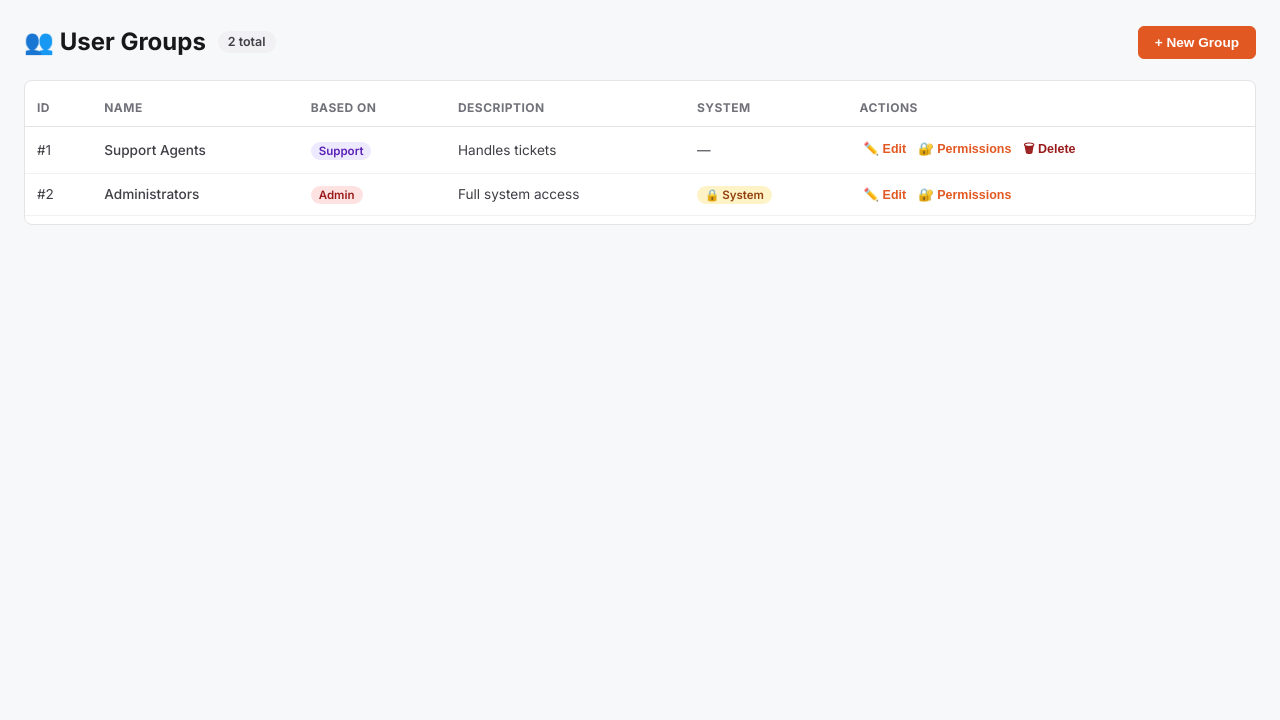
it: RoleList page (User Groups) › hides the rename/kind inputs and the Delete action for a system group
Expected: the text "Administrators" is shown, [92, 174, 299, 216]
Expected: the button titled "Delete this group" is shown, [1019, 138, 1080, 163]
Click the button titled "Edit this group" in the row of "Administrators" at (885, 195), box [860, 185, 910, 204]
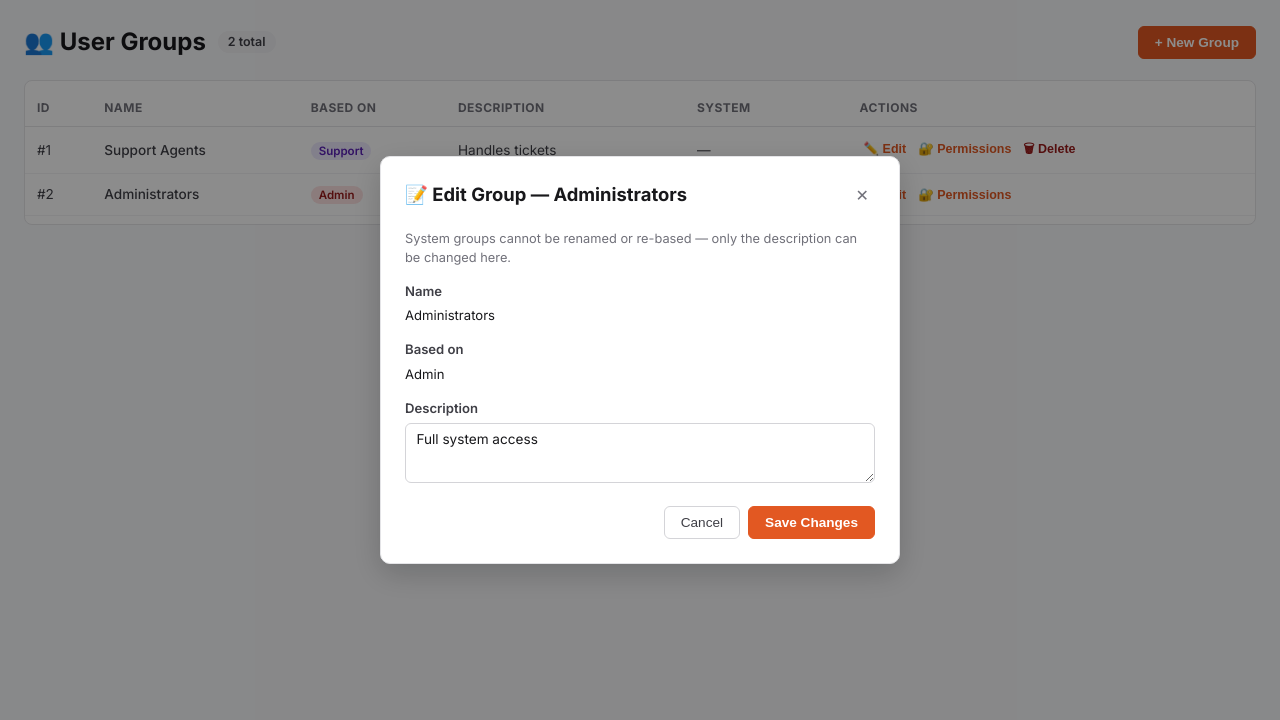
Now the text "System groups cannot be renamed" is shown, box [405, 231, 857, 265]
Now the text box labelled "Description" is shown, box [405, 423, 875, 483]
